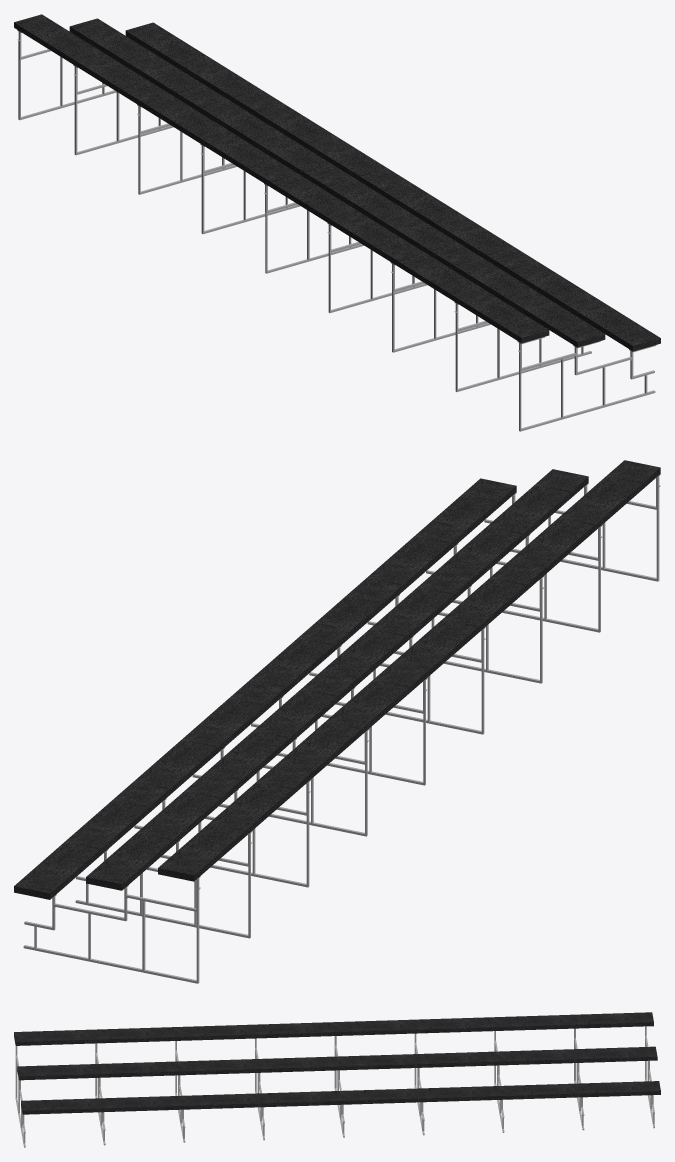
Rendered from bench.fbx.
3 views of the same model, one above another, from view 1: azimuth 30°, elevation 25°; view 2: azimuth 150°, elevation 25°; view 3: azimuth 270°, elevation 25° (orthographic). The views are drawn at different scales.
Parts seen in each view (by area): view 1: stadium.004; view 2: stadium.004; view 3: stadium.004.
Part boxes in pixels (x1,y1,x2,y2): stadium.004: [14, 14, 660, 431]; stadium.004: [14, 460, 660, 983]; stadium.004: [14, 1012, 660, 1147].
Bounding box in the file's own units: 48.68 × 21.59 × 189.
Materials: 2 (2 with a texture image).
